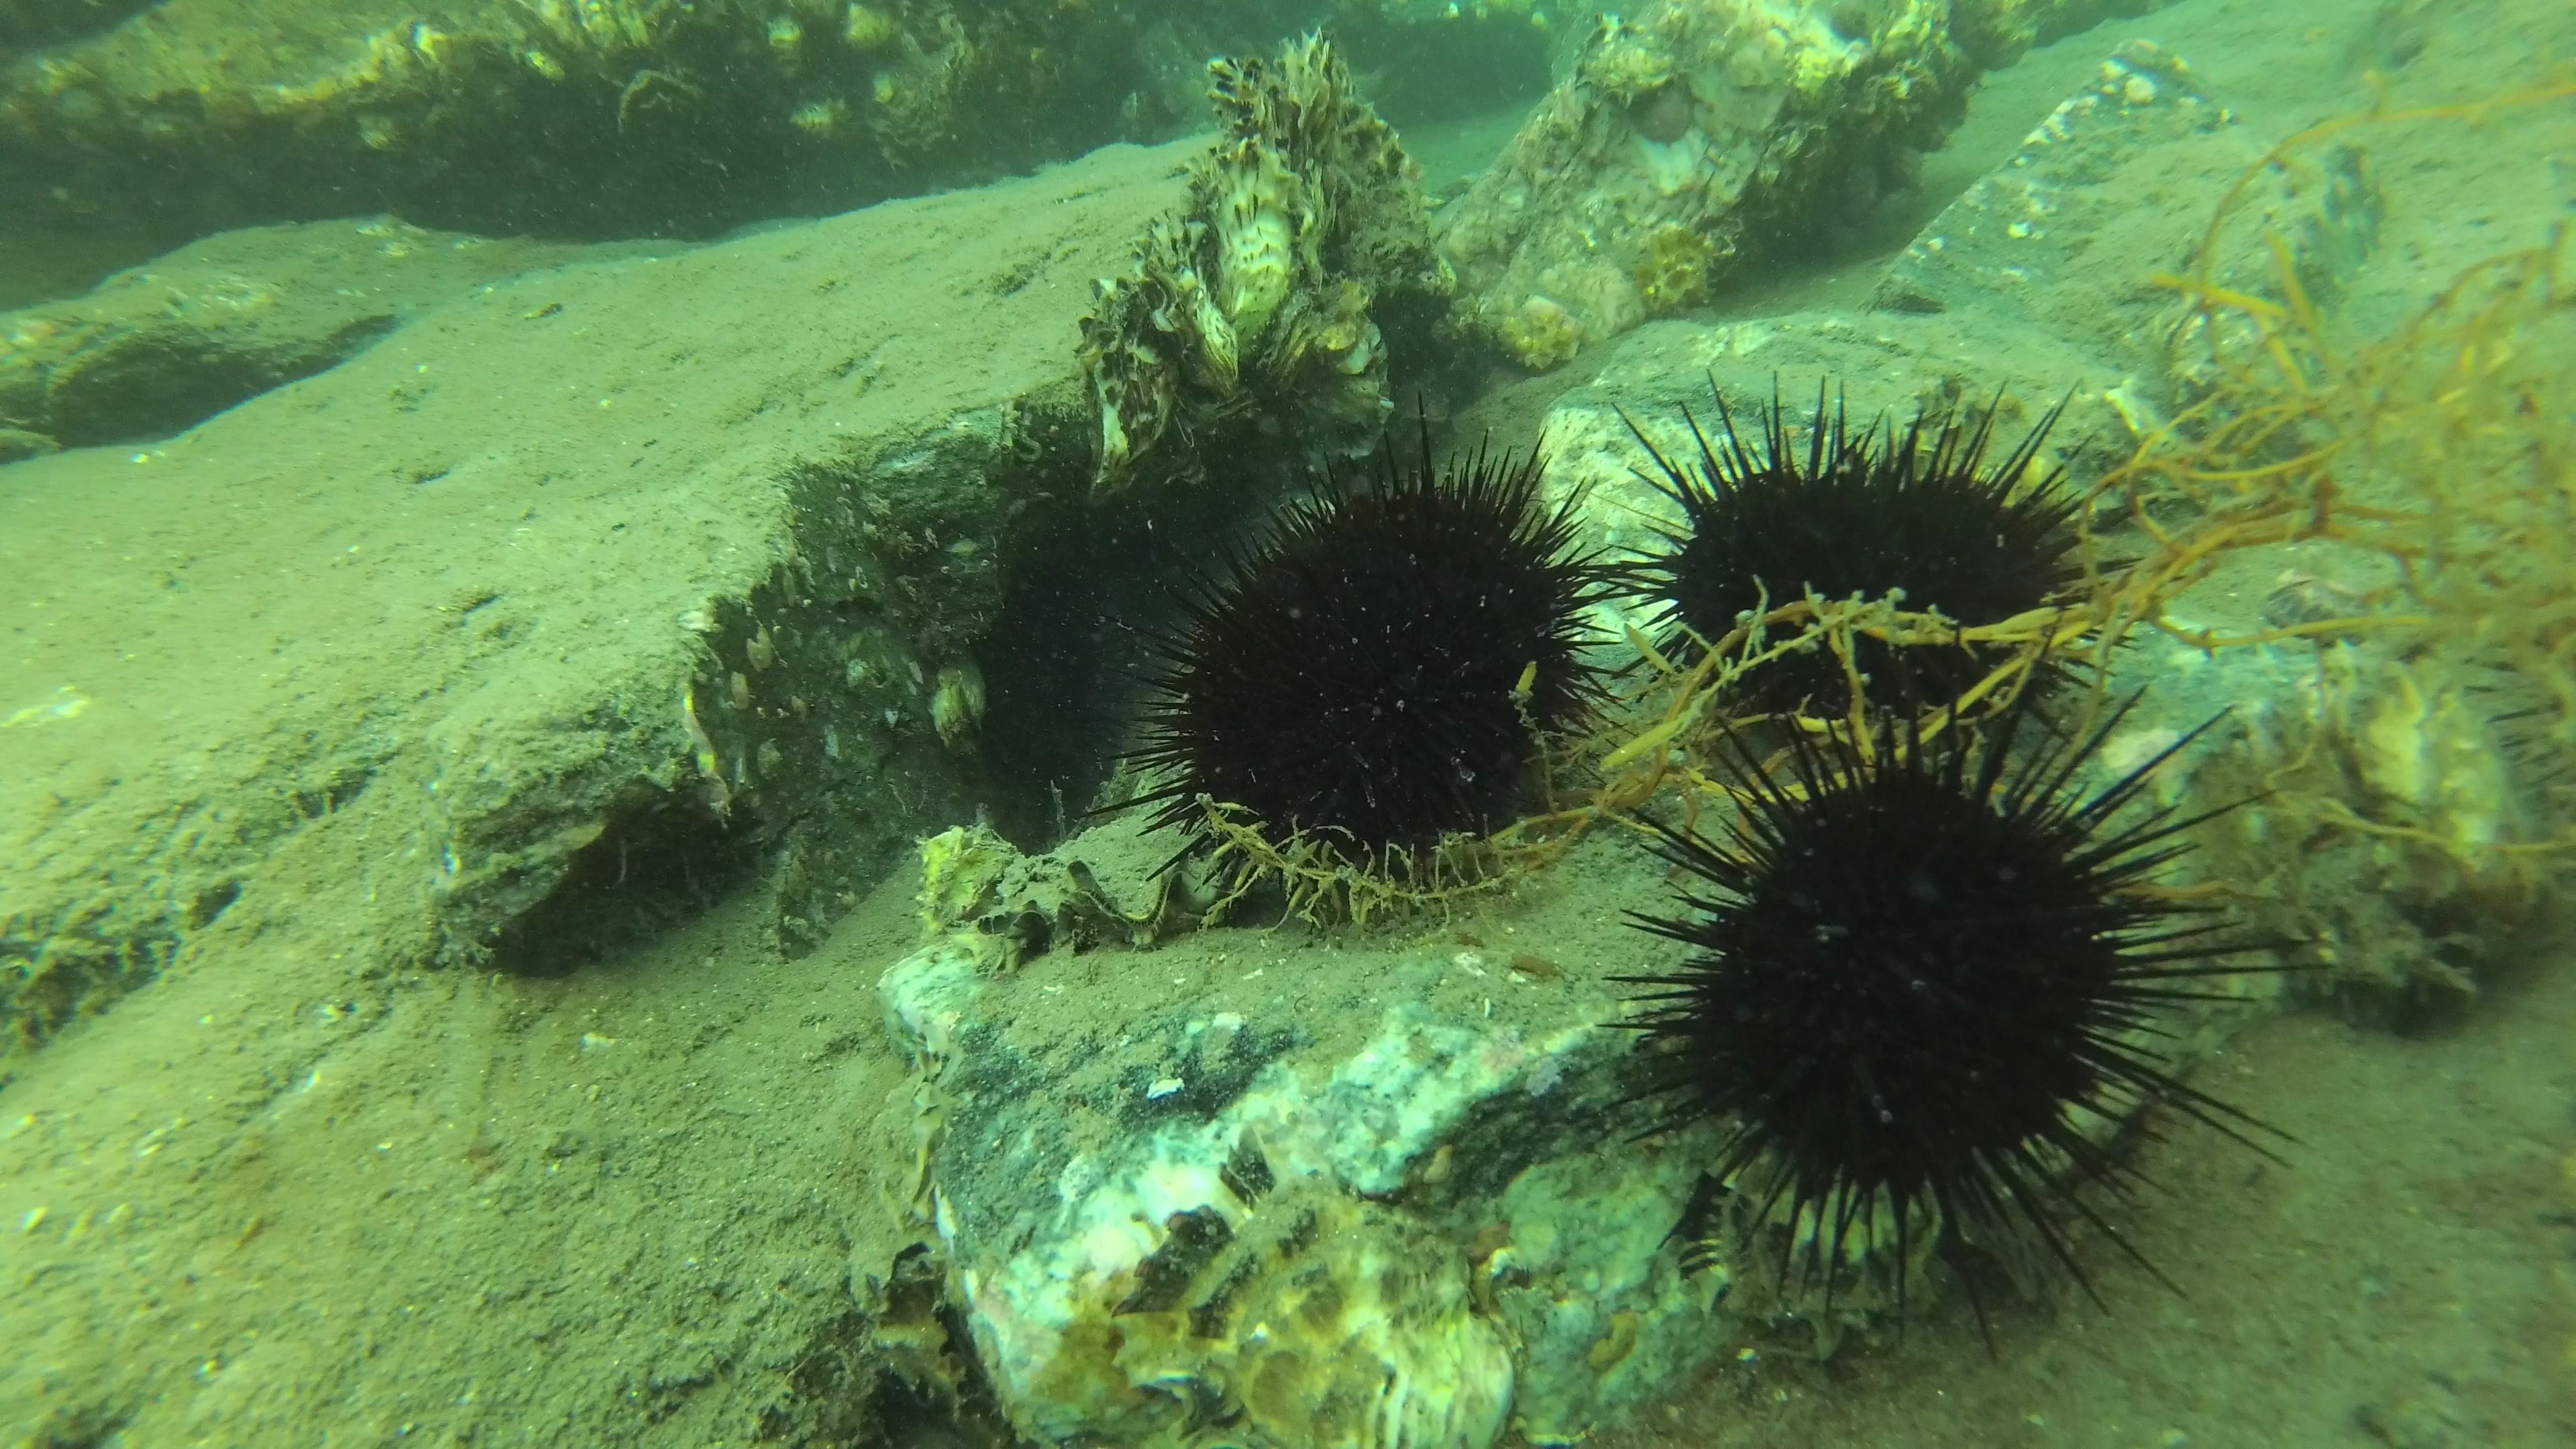echinus: (1591, 688, 2325, 1327), (1085, 412, 1642, 892), (1619, 364, 2137, 764)
